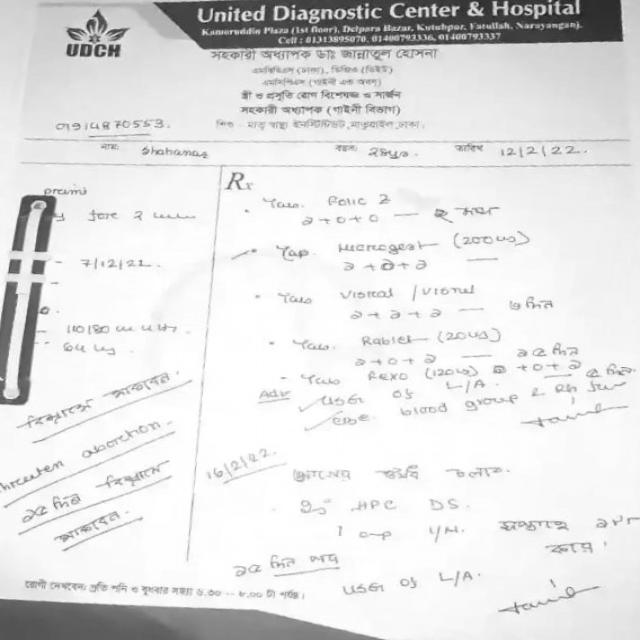Fexo: (360, 366, 415, 387)
Folic Z: (320, 190, 396, 213)
HPC DS: (349, 494, 462, 521)
Microgest: (324, 233, 440, 262)
Rablet: (350, 326, 426, 355)
Visral: (332, 279, 406, 306)
